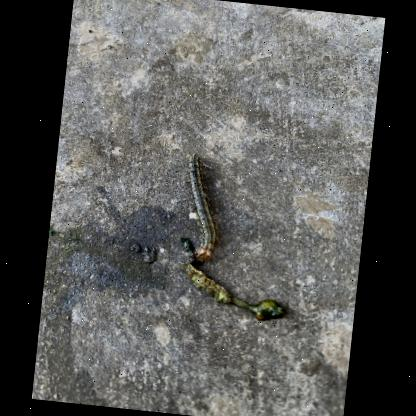Fall Armyworm Larvae: (175, 151, 229, 266)
